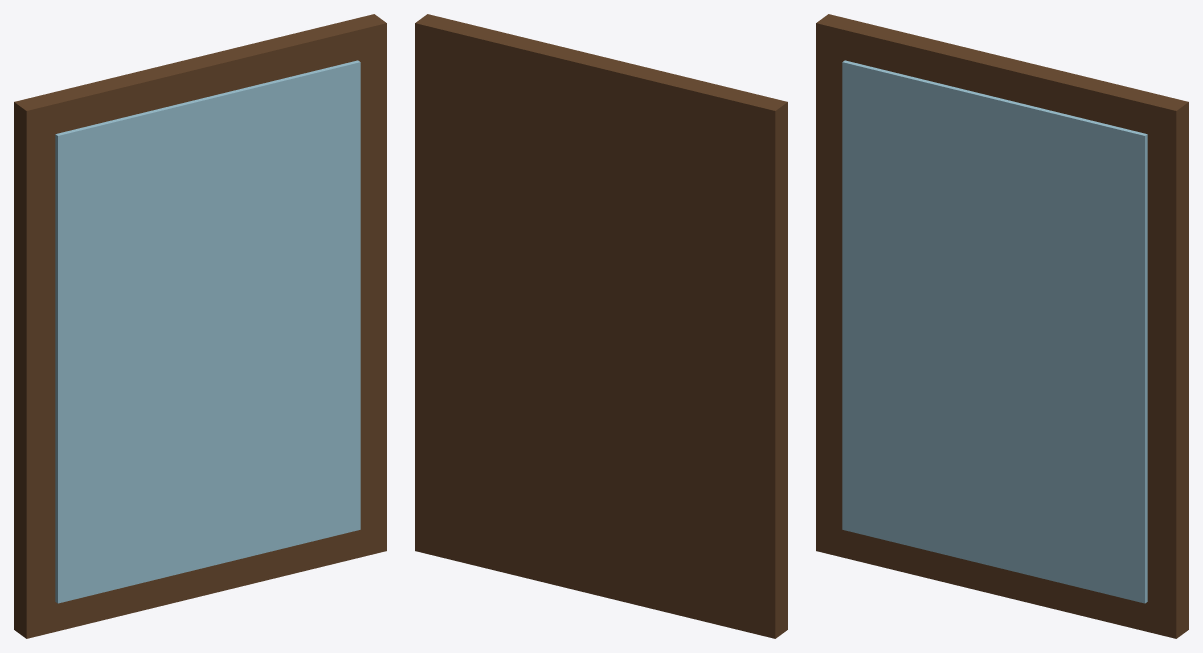
Rendered from GH_Mirror_01.glb.
3 views of the same model, side by side, from view 1: azimuth 30°, elevation 25°; view 2: azimuth 150°, elevation 25°; view 3: azimuth 330°, elevation 25° (orthographic).
Parts seen in each view (by area): view 1: GH_Mirror_01; view 2: GH_Mirror_01; view 3: GH_Mirror_01.
Boxes of the visible parts, x1,y1,x2,y2 form: GH_Mirror_01: [14, 14, 386, 638]; GH_Mirror_01: [415, 14, 787, 638]; GH_Mirror_01: [816, 14, 1188, 638].
Bounding box in the file's own units: 0.5 × 0.7 × 0.036.
1 material, 1 textured.
